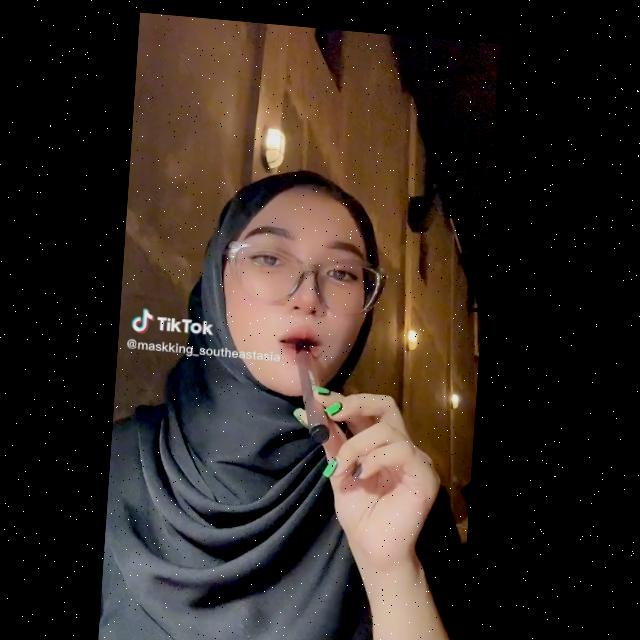vape: (295, 330, 343, 436)
